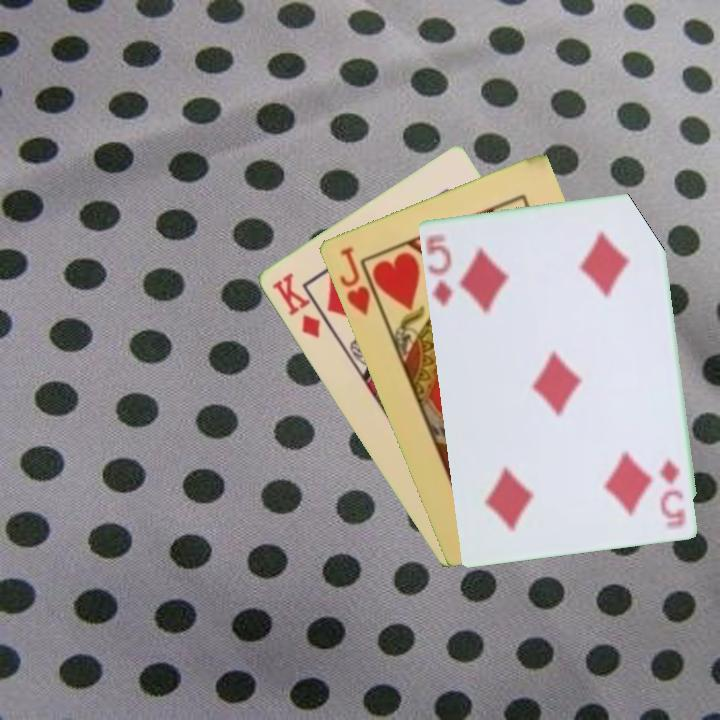5d: (422, 229, 455, 309), (659, 455, 689, 529)
Jh: (335, 243, 385, 318)
Kd: (268, 269, 323, 342)
